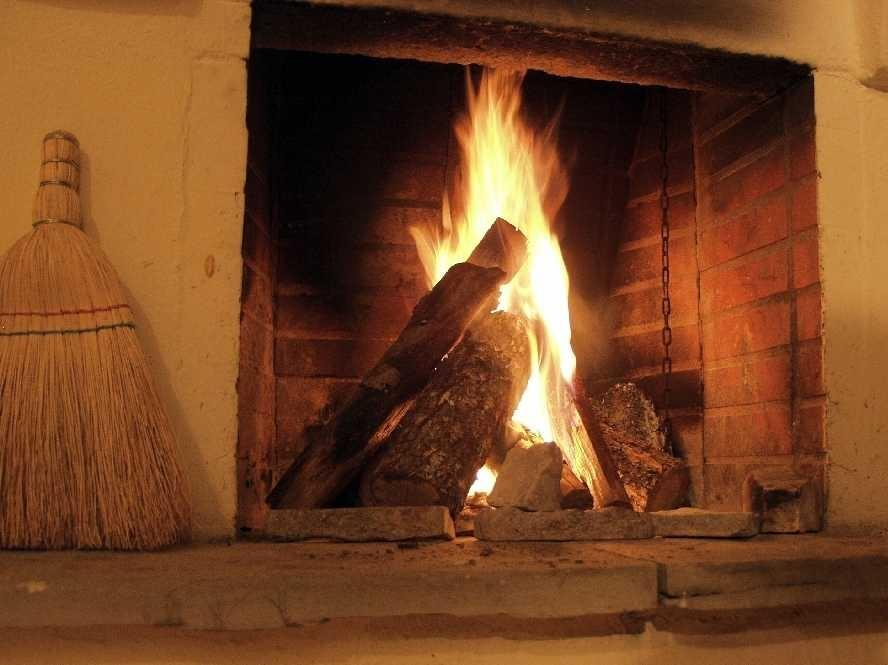fire: (448, 100, 550, 215), (527, 247, 577, 367), (520, 385, 582, 450)
